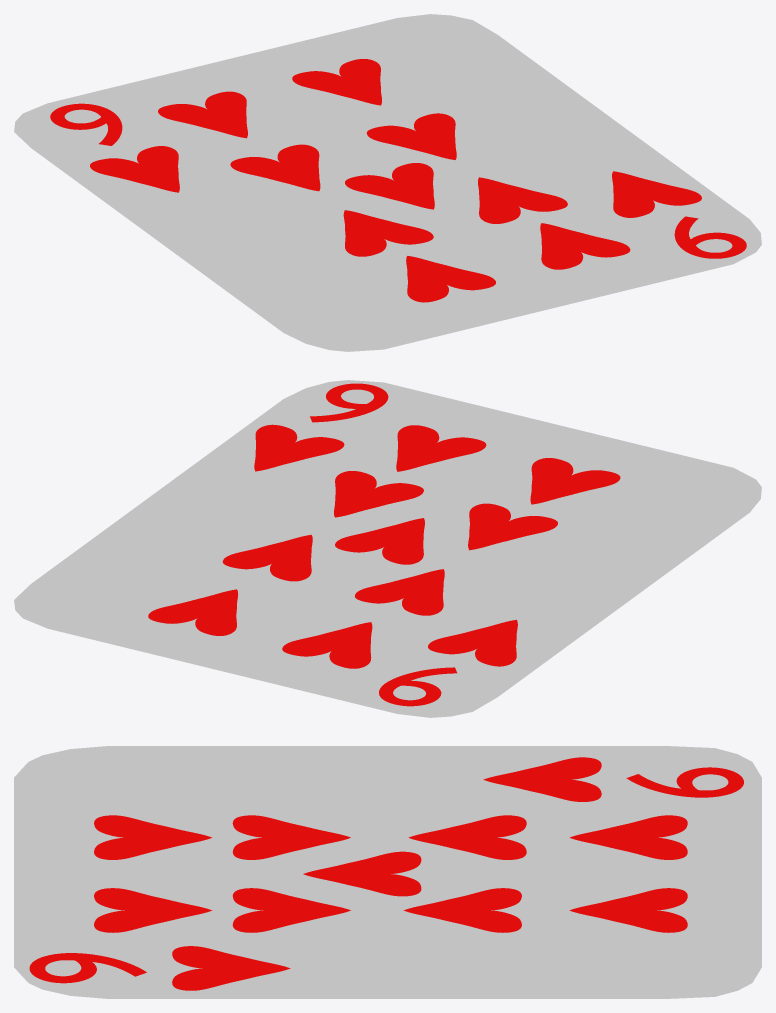
3 renders of one model, top to bottom at view 1: azimuth 30°, elevation 25°; view 2: azimuth 150°, elevation 25°; view 3: azimuth 270°, elevation 25°, orthographic. The views are drawn at different scales.
Visible parts, largest first — view 1: 9ofHearts, Plane.053_Red, Plane.052_Red, Plane.051_Red, Plane.054_Red, Plane.058_Red, Plane.061_Red, Plane.056_Red, Plane.055_Red, Plane.057_Red, Plane.059_Red, Plane.060_Red (+2 smaller); view 2: 9ofHearts, Plane.053_Red, Plane.054_Red, Plane.051_Red, Plane.057_Red, Plane.059_Red, Plane.052_Red, Plane.058_Red, Plane.056_Red, Plane.061_Red, Plane.055_Red, Plane.060_Red (+2 smaller); view 3: 9ofHearts, Plane.059_Red, Plane.052_Red, Plane.053_Red, Plane.051_Red, Plane.057_Red, Plane.054_Red, Plane.060_Red, Plane.061_Red, Plane.056_Red, Plane.058_Red, Plane.055_Red (+2 smaller).
Boxes of the visible parts, bbox=[...] form: 9ofHearts: bbox=[14, 14, 761, 351]; Plane.053_Red: bbox=[540, 223, 630, 269]; Plane.052_Red: bbox=[366, 113, 456, 159]; Plane.051_Red: bbox=[230, 144, 320, 191]; Plane.054_Red: bbox=[406, 256, 495, 302]; Plane.058_Red: bbox=[612, 171, 701, 217]; Plane.061_Red: bbox=[478, 177, 567, 223]; Plane.056_Red: bbox=[158, 91, 247, 138]; Plane.055_Red: bbox=[292, 59, 381, 105]; Plane.057_Red: bbox=[90, 146, 179, 192]; Plane.059_Red: bbox=[345, 163, 434, 209]; Plane.060_Red: bbox=[343, 210, 433, 256]; 9ofHearts: bbox=[14, 380, 761, 717]; Plane.053_Red: bbox=[396, 425, 486, 471]; Plane.054_Red: bbox=[530, 458, 620, 504]; Plane.051_Red: bbox=[355, 569, 444, 615]; Plane.057_Red: bbox=[428, 619, 517, 666]; Plane.059_Red: bbox=[335, 518, 424, 564]; Plane.052_Red: bbox=[222, 534, 312, 581]; Plane.058_Red: bbox=[254, 424, 344, 471]; Plane.056_Red: bbox=[282, 622, 372, 668]; Plane.061_Red: bbox=[334, 471, 423, 517]; Plane.055_Red: bbox=[148, 589, 238, 635]; Plane.060_Red: bbox=[468, 503, 557, 550]; 9ofHearts: bbox=[14, 746, 761, 998]; Plane.059_Red: bbox=[303, 851, 421, 896]; Plane.052_Red: bbox=[403, 888, 521, 932]; Plane.053_Red: bbox=[94, 888, 212, 932]; Plane.051_Red: bbox=[408, 815, 526, 859]; Plane.057_Red: bbox=[483, 757, 601, 801]; Plane.054_Red: bbox=[94, 815, 211, 859]; Plane.060_Red: bbox=[232, 815, 350, 859]; Plane.061_Red: bbox=[232, 888, 350, 932]; Plane.056_Red: bbox=[569, 815, 687, 859]; Plane.058_Red: bbox=[172, 946, 290, 990]; Plane.055_Red: bbox=[569, 888, 687, 932].
Size of the model in its own units: 1.6 by 0.00355 by 2.
